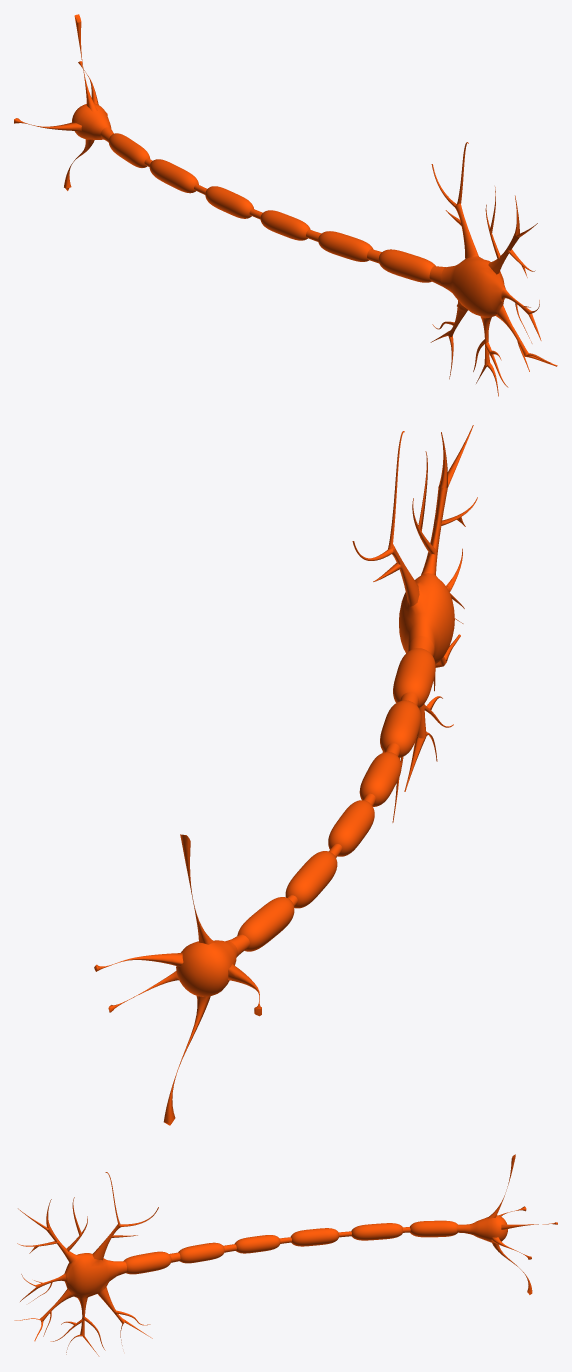
File: nerve-cell.glb
The picture shows the model from 3 angles, top to bottom: view 1: azimuth 30°, elevation 25°; view 2: azimuth 150°, elevation 25°; view 3: azimuth 270°, elevation 25°; orthographic projection. The views are drawn at different scales.
Visible parts, largest first — view 1: Object_9, Object_10, Object_11, Object_14, Object_13, Object_12, Object_15; view 2: Object_9, Object_10, Object_15, Object_14, Object_11, Object_13, Object_12; view 3: Object_9, Object_10, Object_14, Object_15, Object_13, Object_11, Object_12.
Part boxes in pixels (box(x1,y1,x2,y2)): Object_9: box(14, 14, 557, 396); Object_10: box(378, 249, 435, 282); Object_11: box(318, 231, 373, 261); Object_14: box(149, 159, 198, 193); Object_13: box(205, 186, 253, 218); Object_12: box(260, 210, 310, 240); Object_15: box(108, 133, 150, 167); Object_9: box(94, 425, 477, 1125); Object_10: box(393, 648, 435, 707); Object_15: box(237, 897, 294, 951); Object_14: box(285, 851, 337, 908); Object_11: box(380, 700, 421, 757); Object_13: box(328, 800, 374, 856); Object_12: box(359, 752, 401, 806); Object_9: box(14, 1154, 557, 1356); Object_10: box(123, 1251, 171, 1274); Object_14: box(351, 1223, 402, 1240); Object_15: box(410, 1220, 458, 1237); Object_13: box(290, 1228, 339, 1246); Object_11: box(178, 1242, 224, 1263); Object_12: box(234, 1235, 280, 1253).
Bounding box in the file's own units: 122 × 127 × 334.
